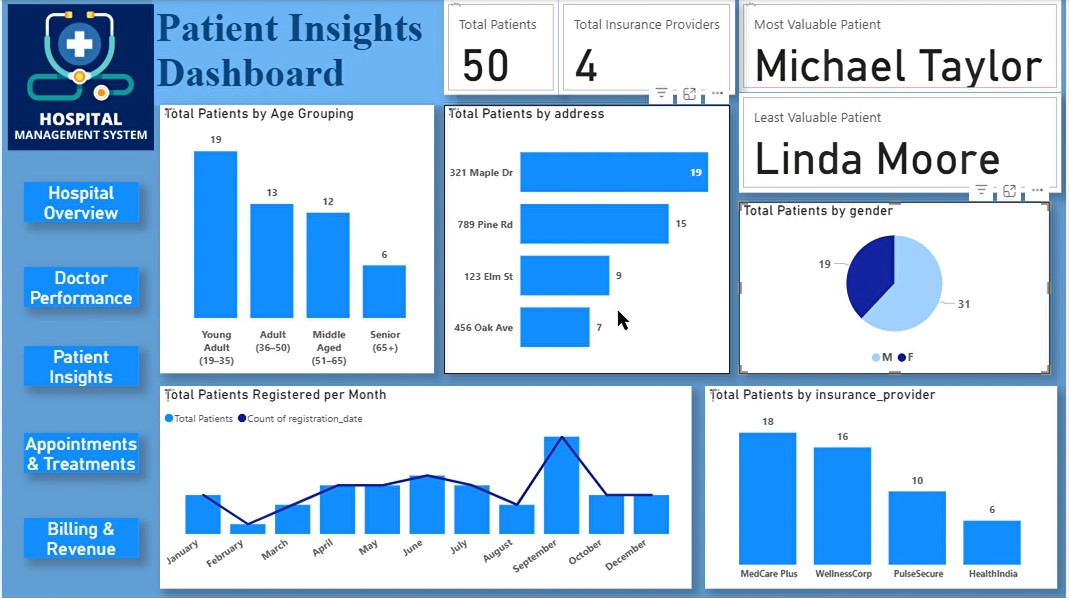

Layout of this report page (visuals, bound fields, positions):
{"tool":"powerbi","page":{"name":"Patient Insights","canvas":[1280,720],"ordinal":2},"visuals":[{"type":"textbox","box":[180.3,0,367.5,126.6],"z":0},{"type":"cardVisual","fields":{"Data":["patients.Total Patients"]},"box":[532.6,0,137.6,114.2],"z":1000},{"type":"pieChart","fields":{"Y":["patients.Total Patients"],"Category":["patients.gender"]},"box":[887.7,243.6,374.4,206.5],"z":2000},{"type":"cardVisual","fields":{"Data":["patients.Most Valuable Patient"]},"box":[887.7,0,388.1,111.5],"z":3000},{"type":"clusteredColumnChart","fields":{"Y":["patients.Total Patients"],"Category":["patients.insurance_provider"]},"box":[846,464.6,424.1,244.1],"z":4000},{"type":"cardVisual","fields":{"Data":["patients.Total Insurance Providers"]},"box":[670.3,0,212,114.2],"z":5000},{"type":"lineStackedColumnComboChart","title":"Total Patients Registered per Month","fields":{"Category":["patients.registration_date.Variation.Date Hierarchy.Month"],"Y":["patients.Total Patients"],"Y2":["CountNonNull(patients.registration_date)"]},"box":[190.1,464.6,640.1,244.1],"z":6000},{"type":"barChart","fields":{"Category":["patients.address"],"Y":["patients.Total Patients"]},"box":[532.6,126.6,344.1,323.4],"z":7000},{"type":"columnChart","fields":{"Category":["patients.Age Grouping"],"Y":["patients.Total Patients"]},"box":[189.9,126.6,330.3,323.4],"z":8000},{"type":"cardVisual","fields":{"Data":["patients.Least Valuable Patien"]},"box":[887.7,111.5,388.1,119.7],"z":9000},{"type":"image","box":[0,0,189.9,185.8],"z":10000},{"type":"actionButton","title":"Hospital Overview","box":[26.2,218.8,137.6,48.2],"z":11000},{"type":"actionButton","title":"Doctor Performance","box":[26.2,322.1,137.6,48.2],"z":12000},{"type":"actionButton","title":"Patient Insights","box":[26.2,417,137.6,48.2],"z":13000},{"type":"actionButton","title":"Appointments & Treatments","box":[26.2,521.6,137.6,48.2],"z":14000},{"type":"actionButton","title":"Billing & Revenue","box":[26.2,623.5,137.6,48.2],"z":15000}]}

Visuals, with their boxes in screenshot pixels (x1, y1, x2, y2), scaled from the page's 1280x720 canvas onto the 1069x598 screenshot:
textbox: bbox=[151, 0, 457, 105]
cardVisual - patients.Total Patients: bbox=[445, 0, 560, 95]
pieChart - patients.Total Patients x patients.gender: bbox=[741, 202, 1054, 374]
cardVisual - patients.Most Valuable Patient: bbox=[741, 0, 1065, 93]
clusteredColumnChart - patients.Total Patients x patients.insurance_provider: bbox=[707, 386, 1061, 589]
cardVisual - patients.Total Insurance Providers: bbox=[560, 0, 737, 95]
"Total Patients Registered per Month" lineStackedColumnComboChart: bbox=[159, 386, 693, 589]
barChart - patients.address x patients.Total Patients: bbox=[445, 105, 732, 374]
columnChart - patients.Age Grouping x patients.Total Patients: bbox=[159, 105, 434, 374]
cardVisual - patients.Least Valuable Patien: bbox=[741, 93, 1065, 192]
image: bbox=[0, 0, 159, 154]
"Hospital Overview" actionButton: bbox=[22, 182, 137, 222]
"Doctor Performance" actionButton: bbox=[22, 268, 137, 308]
"Patient Insights" actionButton: bbox=[22, 346, 137, 386]
"Appointments & Treatments" actionButton: bbox=[22, 433, 137, 473]
"Billing & Revenue" actionButton: bbox=[22, 518, 137, 558]
